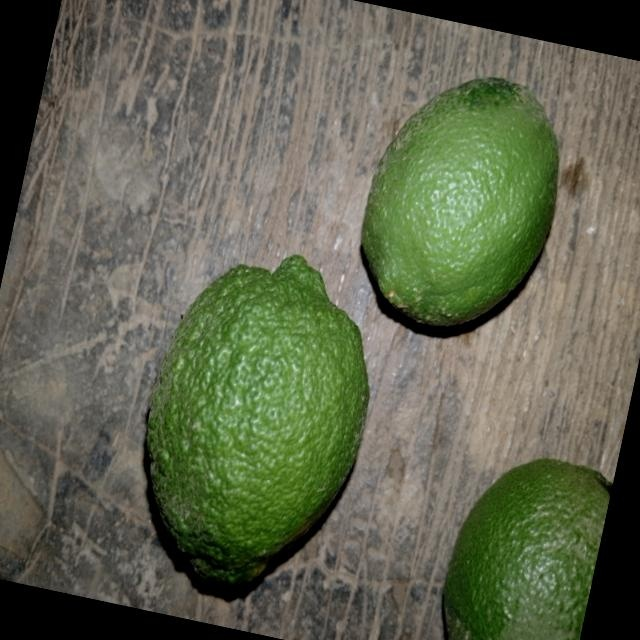agrume: (101, 217, 401, 637), (338, 50, 582, 343), (419, 431, 611, 640)
